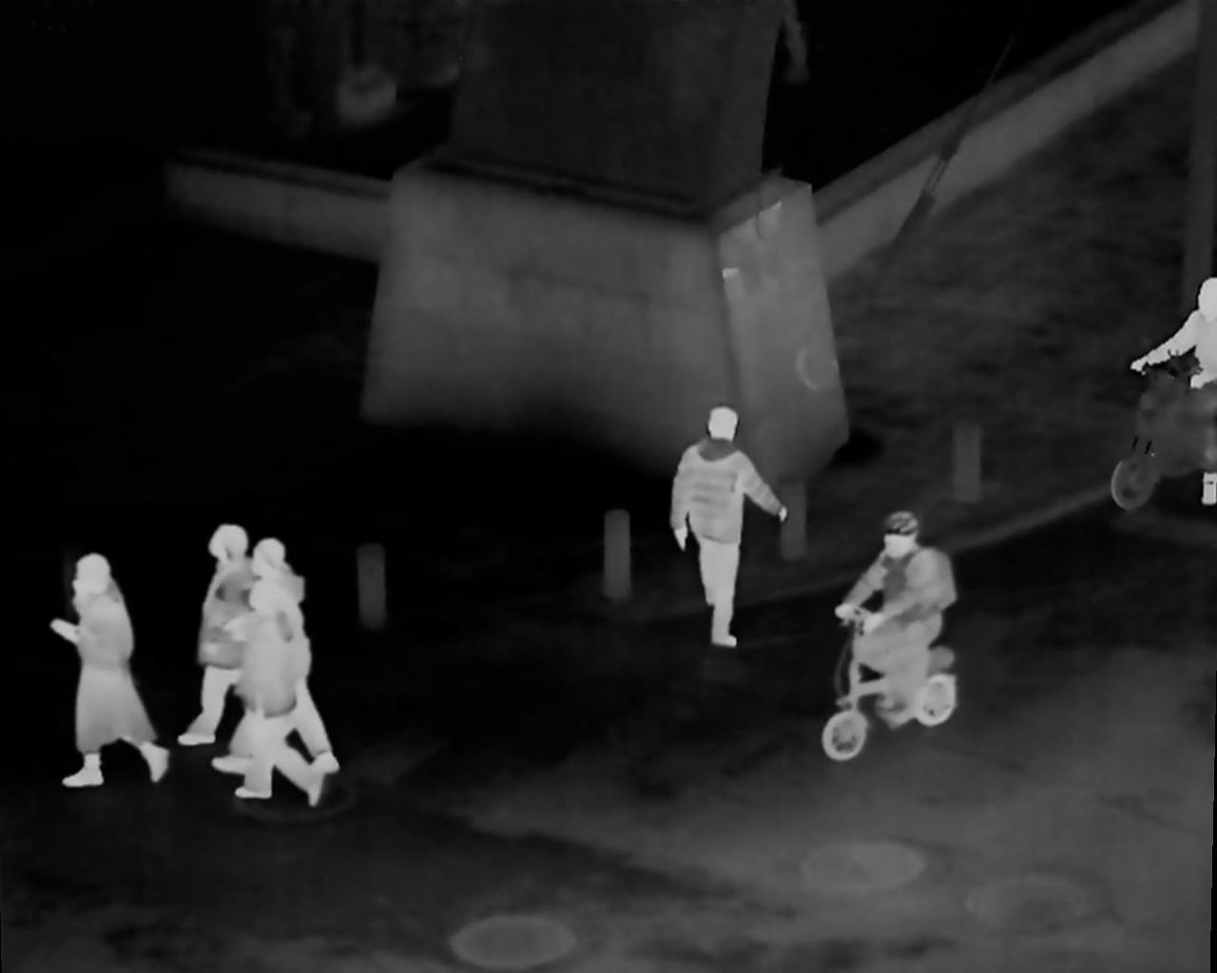person: (214, 533, 340, 774), (46, 563, 159, 787), (227, 580, 327, 811), (674, 407, 763, 647), (184, 520, 264, 767), (1134, 275, 1217, 507), (842, 521, 945, 692)
